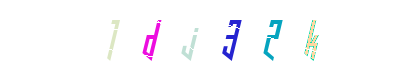1: (111, 0, 191, 80)
2: (193, 0, 273, 80)
3: (192, 0, 272, 80)
D: (169, 0, 249, 80)
J: (178, 0, 258, 80)
K: (240, 0, 320, 80)
